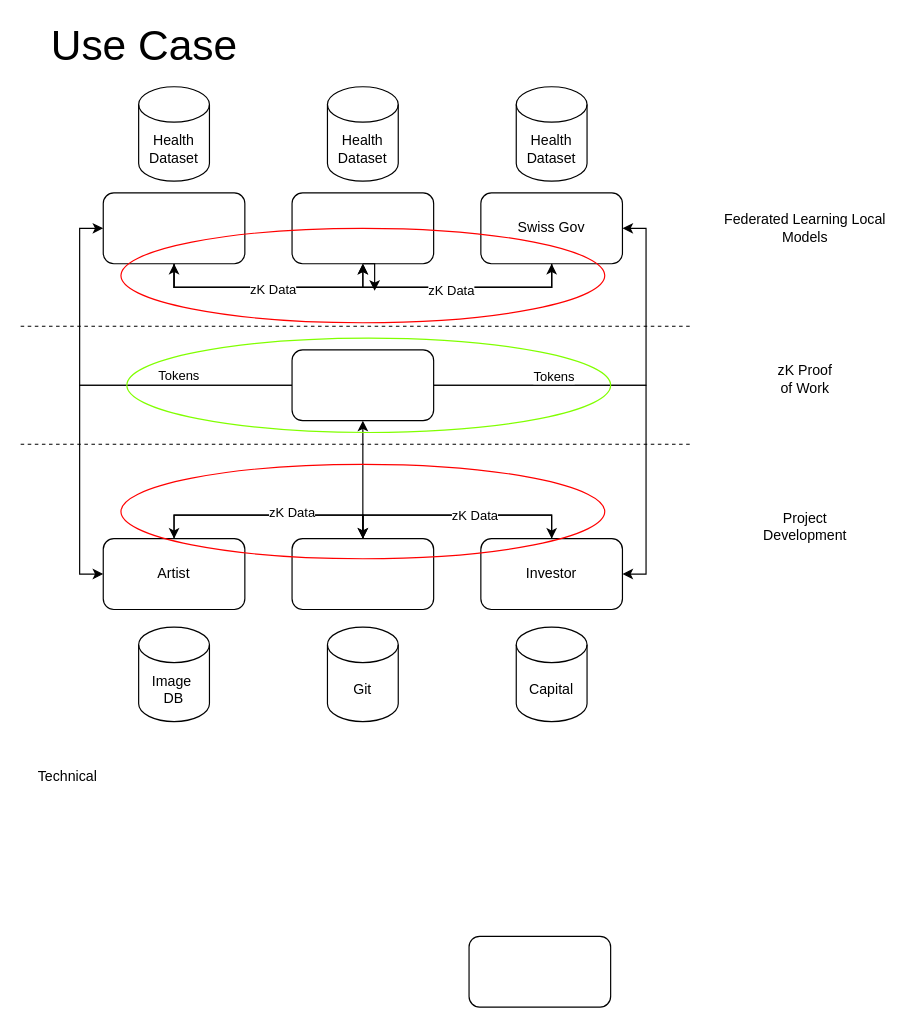
The diagram is 914 pixels wide and 1028 high, and some of its shapes have lost their labels. The shapes that lost their labels are listed below. From the top down, each one's centre as x and y in pixels, then its label:
the point at 173,228: WHO
the point at 362,228: US Gov
the point at 362,385: Aggregator
the point at 362,573: Creative Coder
